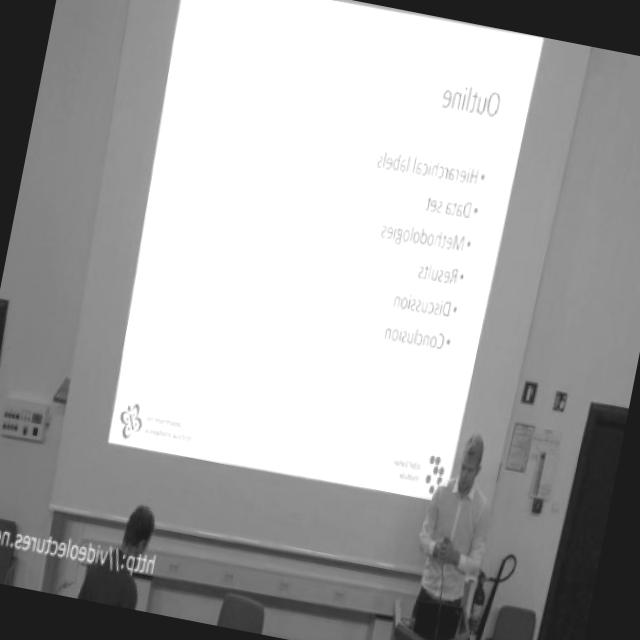Instructor: (399, 394, 533, 625)
Slide: (107, 0, 539, 502)
